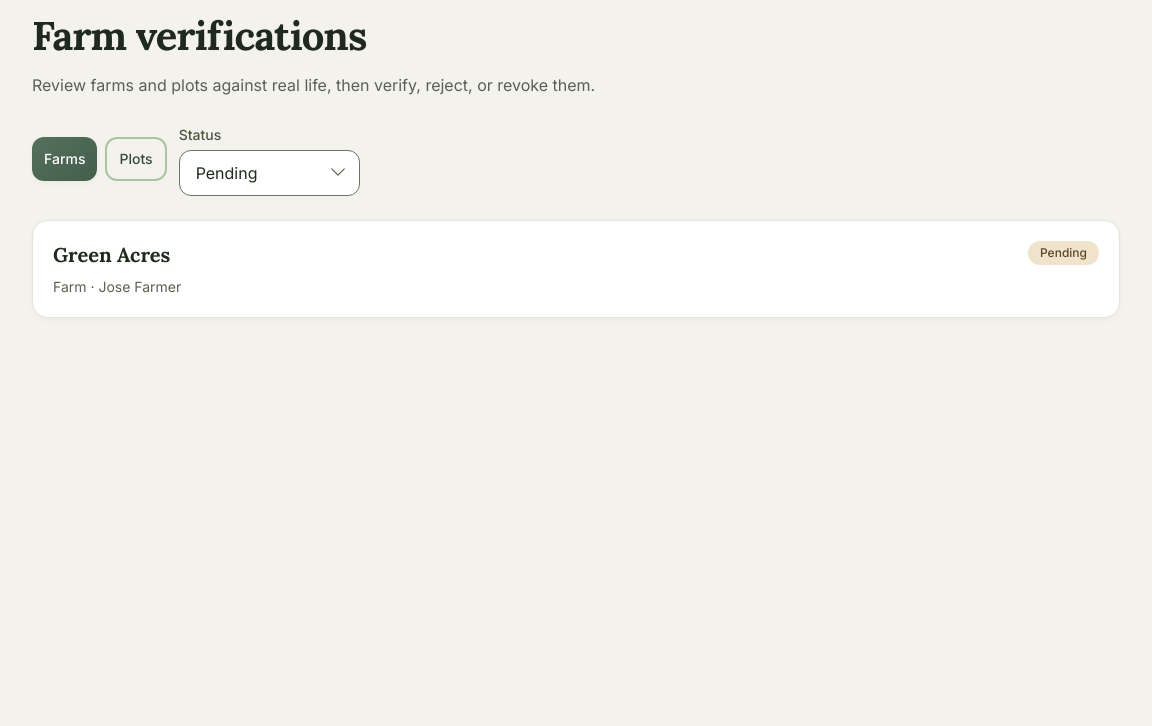
Test case: AdminVerificationsPage › opens the detail panel with method and note fields on row click
Click the button with test id "verification-row" at (112, 254), box [32,220,1120,318]
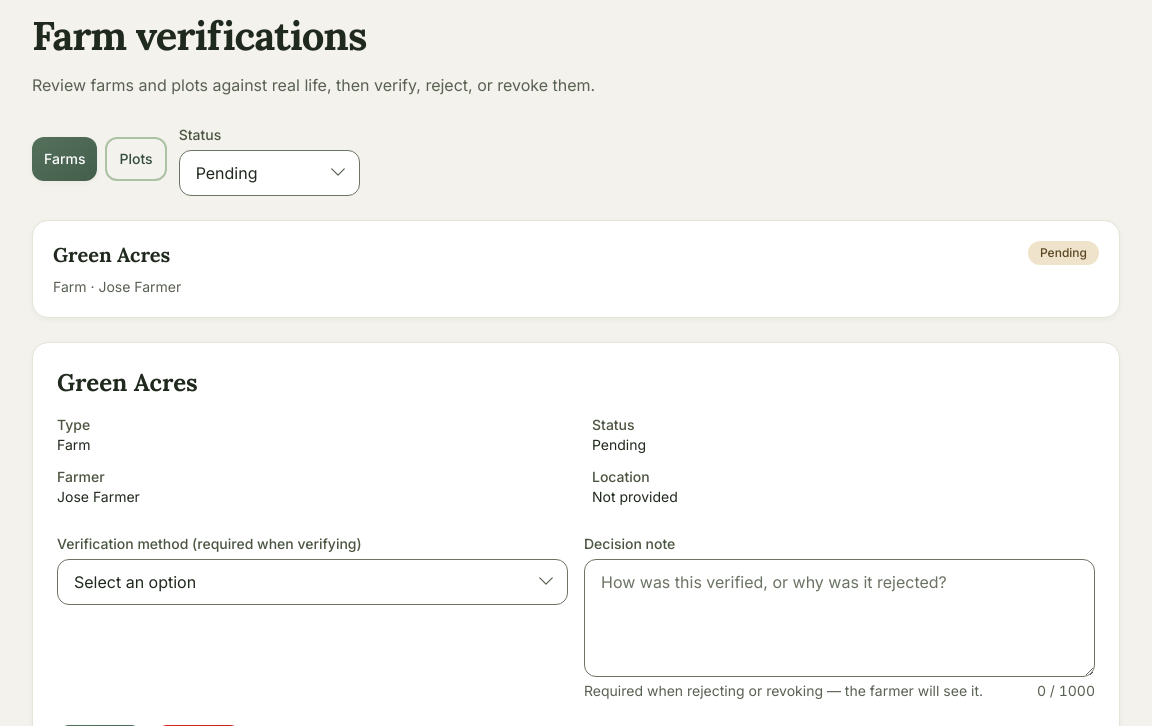
Expected: the dropdown labelled "Verification method (required when verifying)" is shown, [57,559,568,605]
Expected: the text box labelled "Decision note" is shown, [584,559,1095,677]
